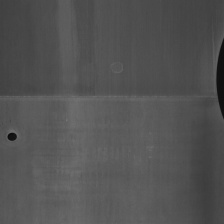welding_line: (1, 92, 221, 105), (6, 129, 20, 145)
